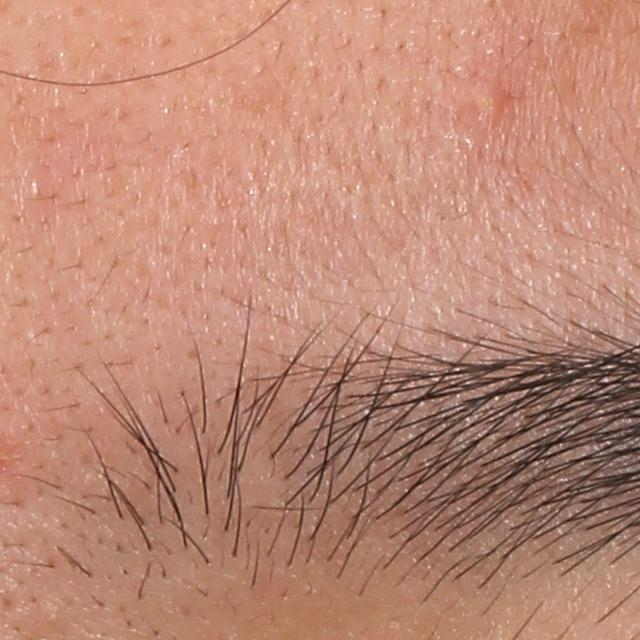comedo: (27, 178, 47, 204)
papule: (473, 82, 505, 119)
